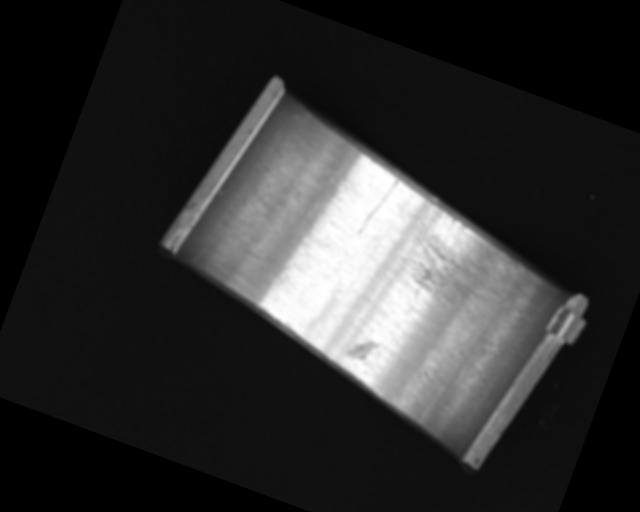bruise: (345, 335, 379, 364)
nick: (190, 176, 269, 281), (355, 171, 399, 240)
scratch: (388, 194, 537, 329)
